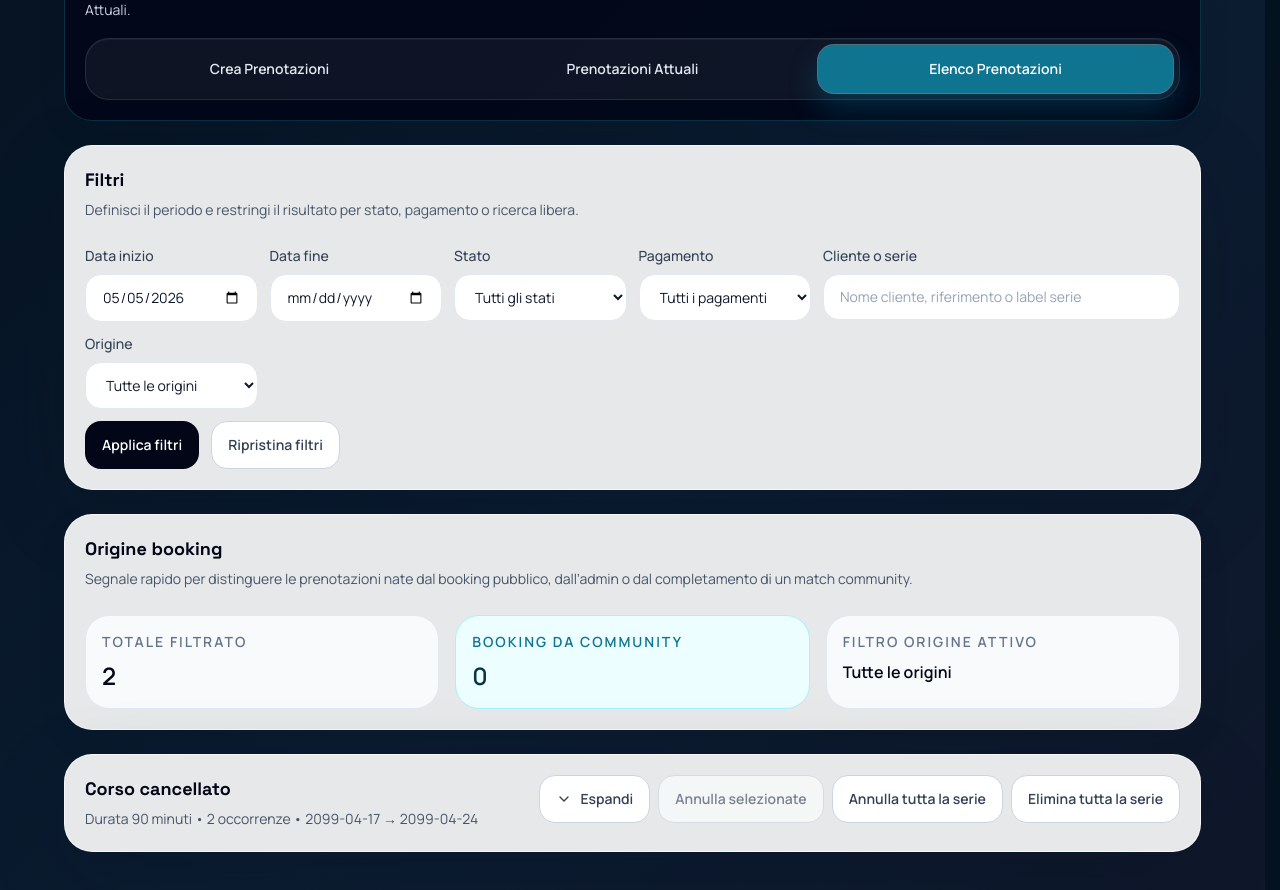
Test: AdminBookingsPage › deletes a cancelled recurring occurrence from the grouped list
(page scrolled)
Expected: the heading "Corso cancellato" is shown, [85, 777, 231, 800]
Click the button "Espandi" at [595, 799], box [540, 775, 650, 823]
(page scrolled)
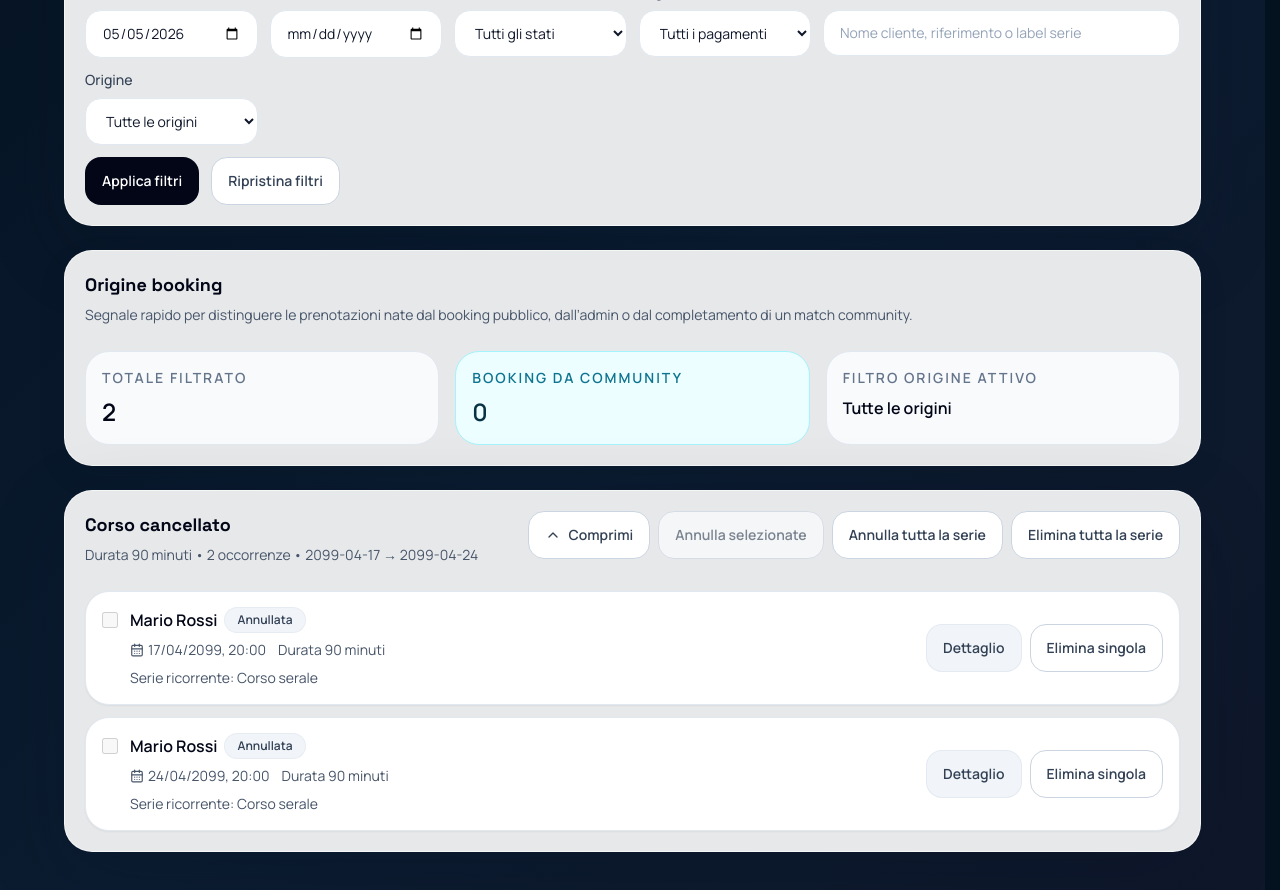
Click the button with aria-label "Elimina singola Mario Rossi 2099-04-17" at [1096, 648], box [1030, 624, 1163, 672]
(page scrolled)
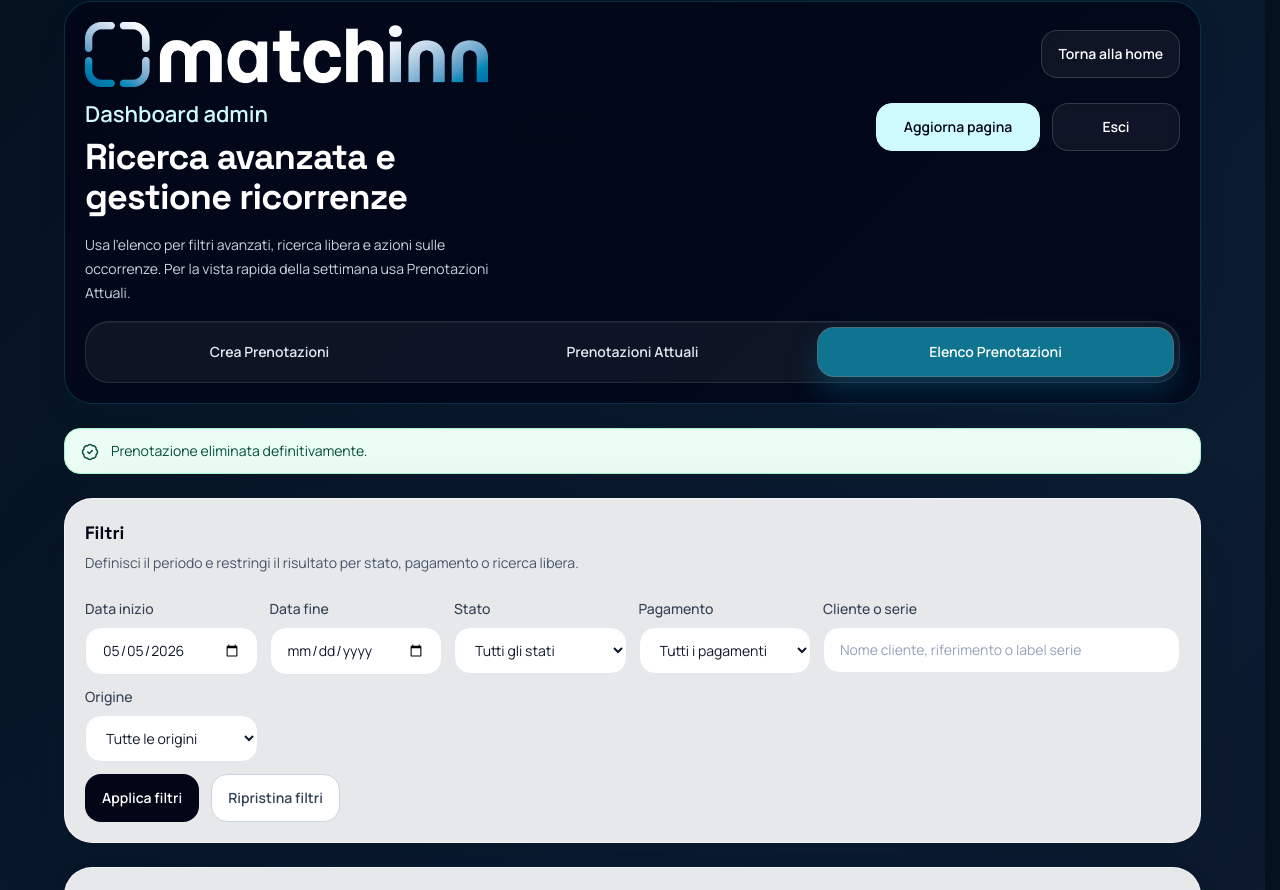
Now the text "Prenotazione eliminata definitivamente." is shown, box [111, 441, 367, 461]
